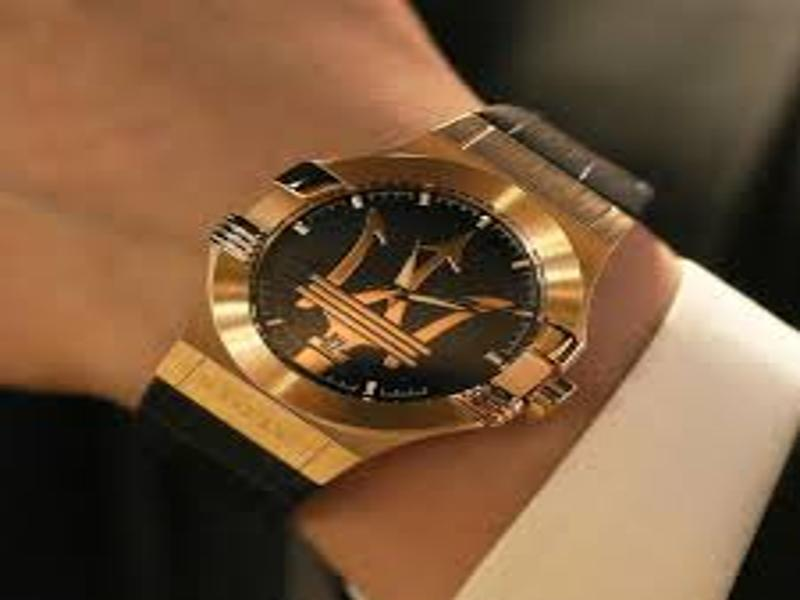watch: (121, 98, 657, 522)
